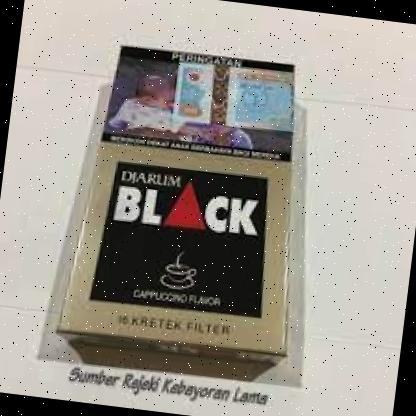bungkus rokok: (53, 25, 315, 383)
